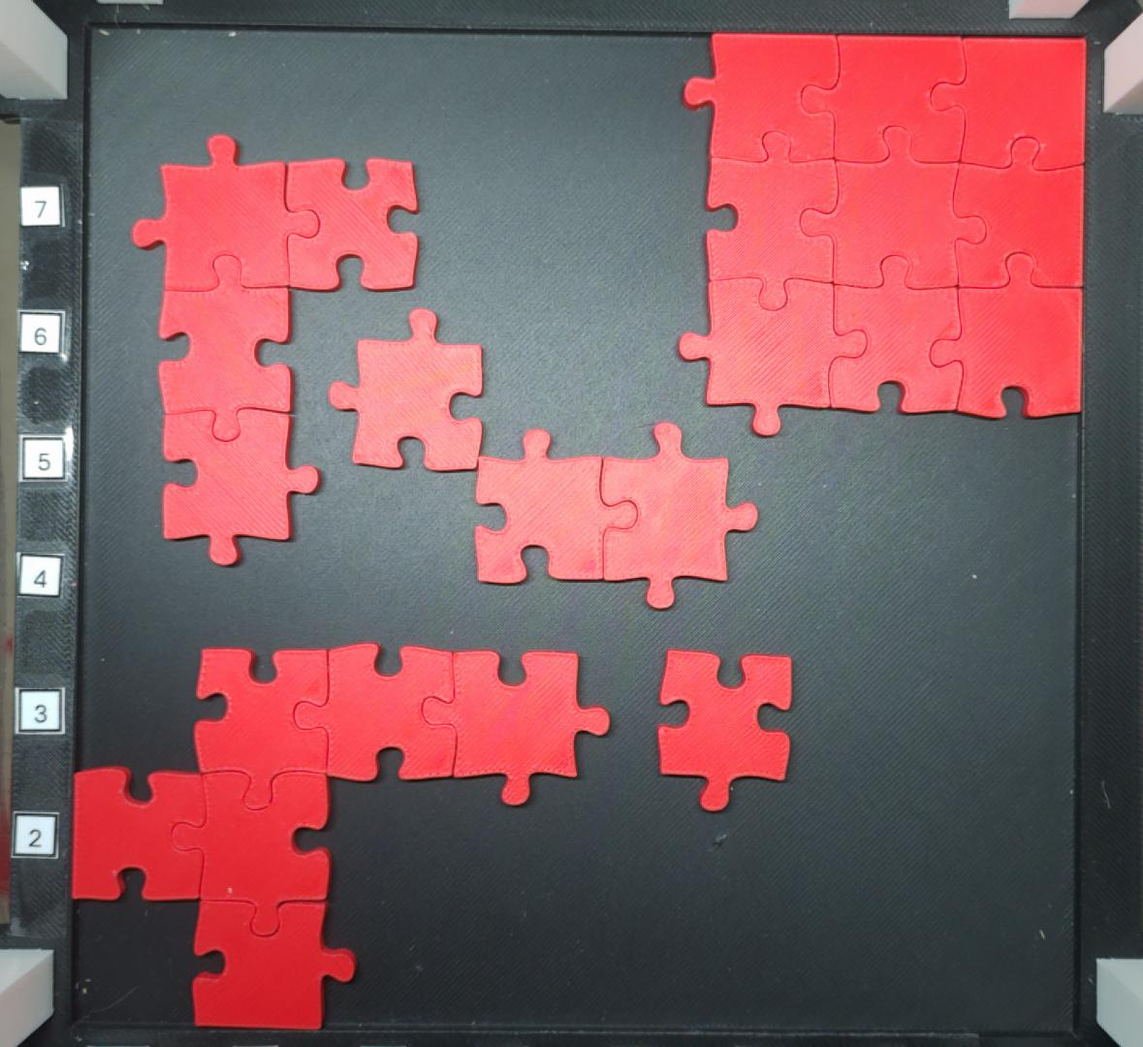p_1: (327, 305, 485, 472), (653, 647, 793, 814)
p_2: (472, 420, 758, 612)
p_4: (129, 134, 421, 568)
p_m: (73, 641, 612, 1032), (678, 28, 1087, 438)
